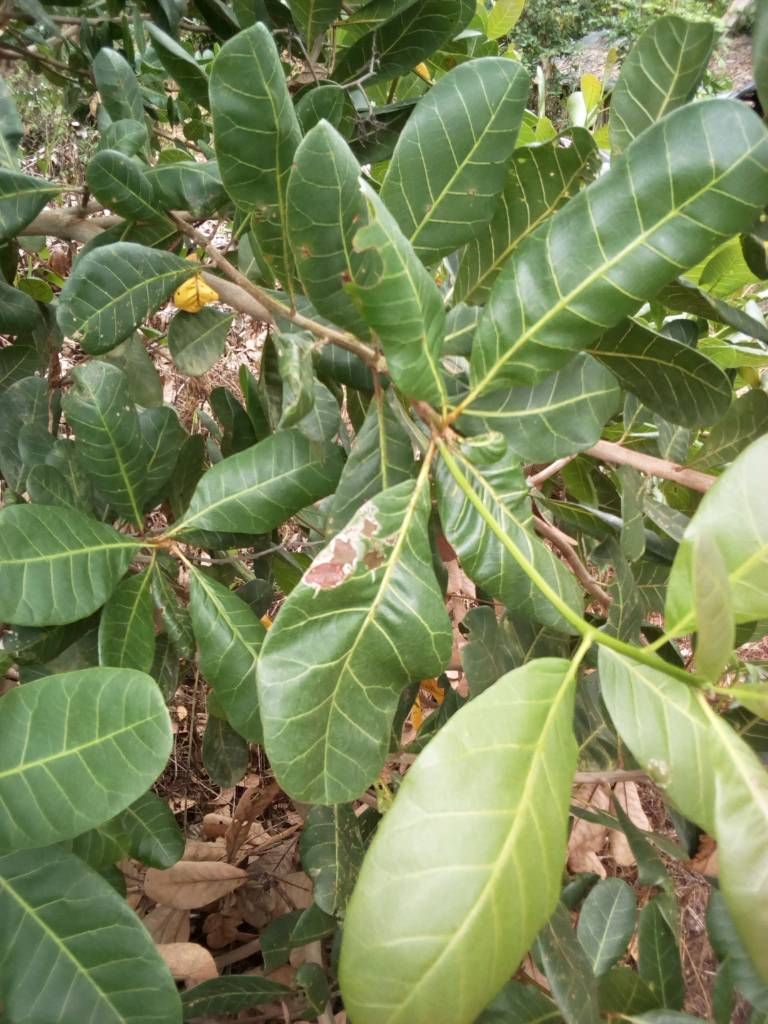Dysdercus wolkerii: (252, 467, 444, 821)
